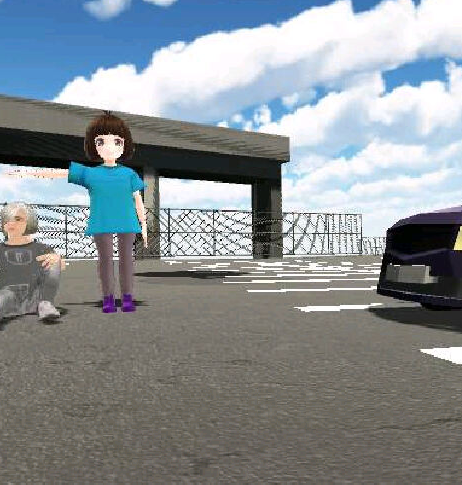doubleP_left: (1, 110, 151, 324)
